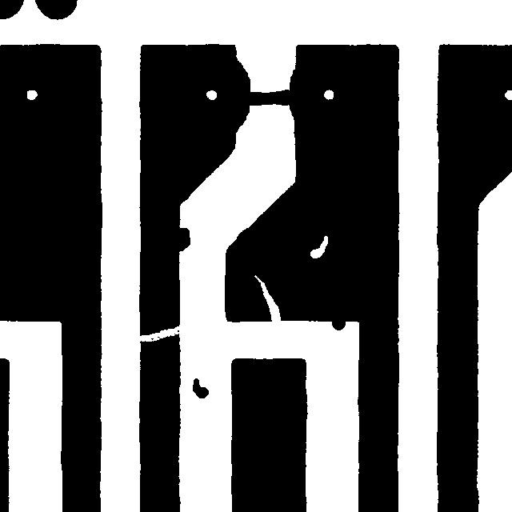copper: (185, 370, 216, 406)
mousebite: (246, 267, 288, 332)
open: (130, 318, 194, 349)
pin-hole: (302, 228, 335, 266)
short: (237, 82, 302, 113)
spur: (166, 220, 198, 258), (324, 309, 353, 338)
